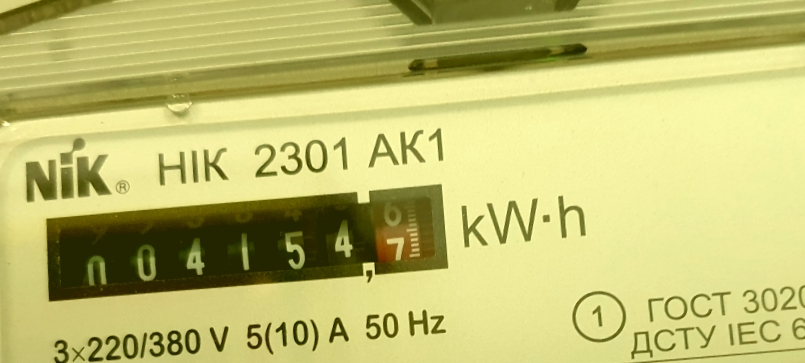0: (132, 239, 158, 282), (83, 249, 108, 285)
1: (236, 229, 252, 271)
4: (181, 234, 207, 277), (330, 214, 354, 259)
5: (281, 224, 308, 270)
6: (380, 196, 404, 227)
7: (383, 232, 406, 262)
screen: (25, 167, 466, 315)
